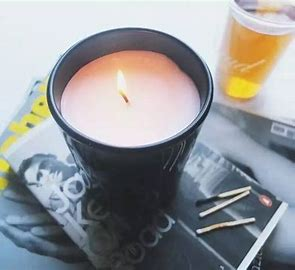Fire: (110, 64, 138, 103)
